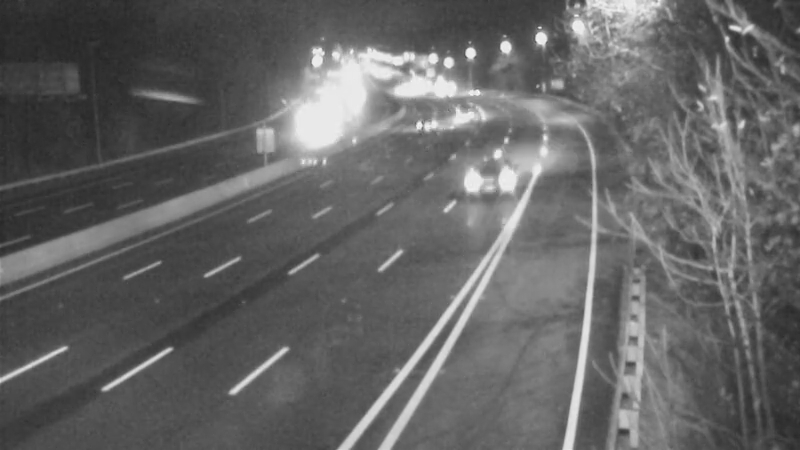vehicle: (452, 142, 532, 222), (451, 68, 501, 118), (440, 89, 490, 139), (400, 101, 450, 151), (287, 97, 337, 147)
